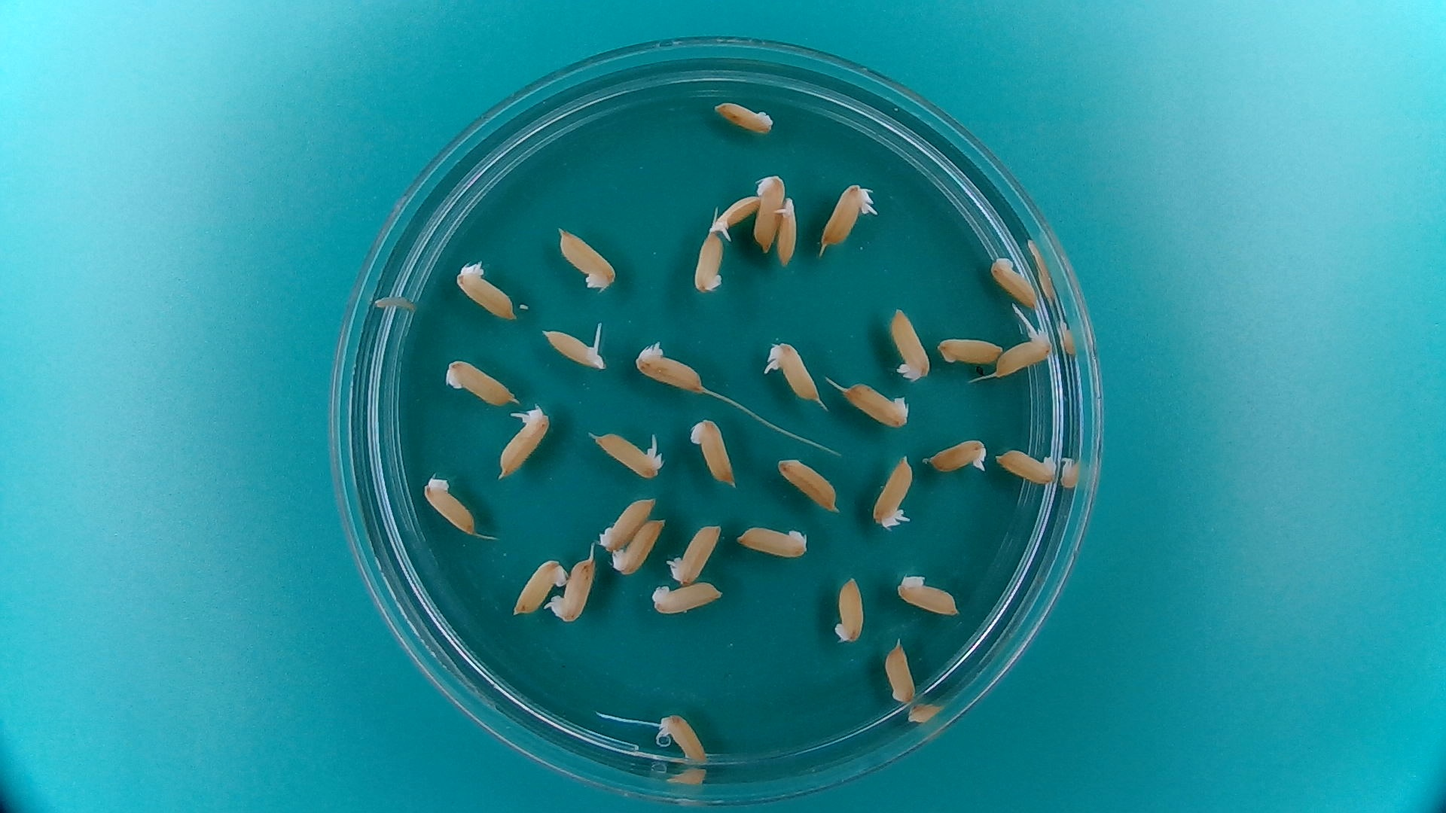no: (452, 256, 520, 323), (554, 223, 618, 294), (774, 452, 843, 513), (439, 355, 520, 406), (687, 413, 739, 490), (631, 343, 709, 394), (419, 470, 478, 537), (836, 377, 913, 428), (508, 555, 568, 617), (608, 514, 667, 577), (884, 303, 930, 383), (893, 566, 965, 617), (596, 493, 657, 552), (731, 520, 811, 559), (750, 169, 786, 255), (647, 576, 728, 614), (657, 709, 711, 764), (987, 252, 1040, 307), (993, 443, 1060, 485), (830, 571, 866, 644), (690, 228, 728, 296), (710, 97, 776, 136), (882, 635, 917, 705), (936, 336, 1002, 367)
yes: (493, 400, 554, 483), (817, 178, 879, 251), (586, 425, 668, 480), (762, 336, 825, 404), (545, 550, 599, 626), (665, 519, 724, 586), (869, 451, 917, 532), (538, 323, 609, 373), (992, 329, 1056, 379), (708, 190, 762, 239), (924, 434, 989, 474), (773, 193, 800, 267)
